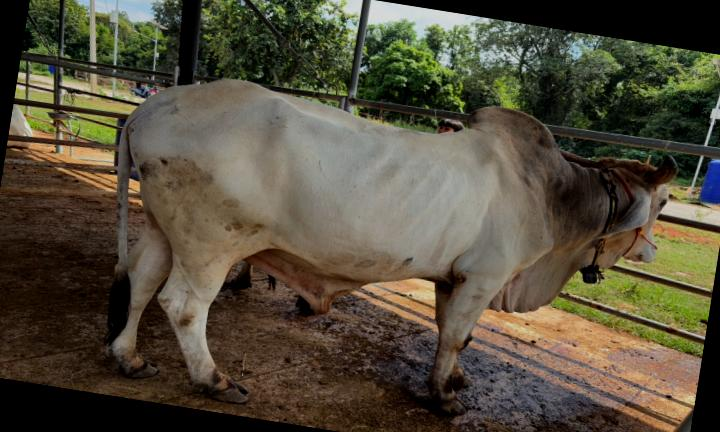Brahman: (107, 79, 677, 414)
